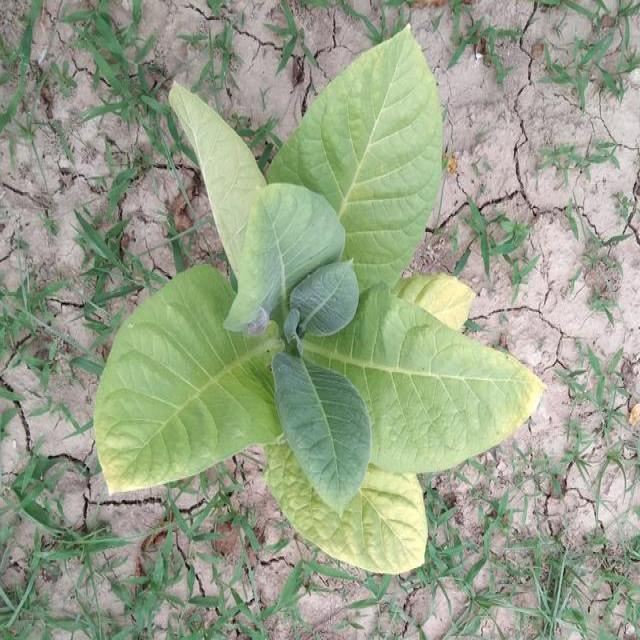crop: (93, 17, 550, 581)
